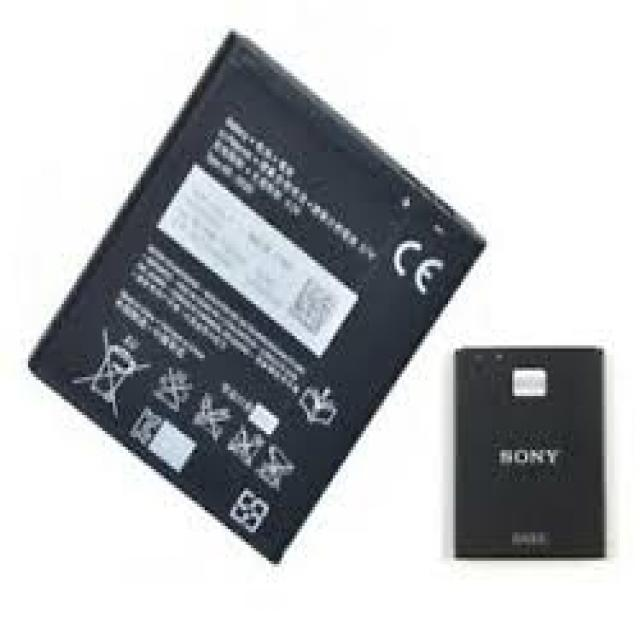non-organic waste: (30, 25, 485, 564), (452, 347, 607, 562)
